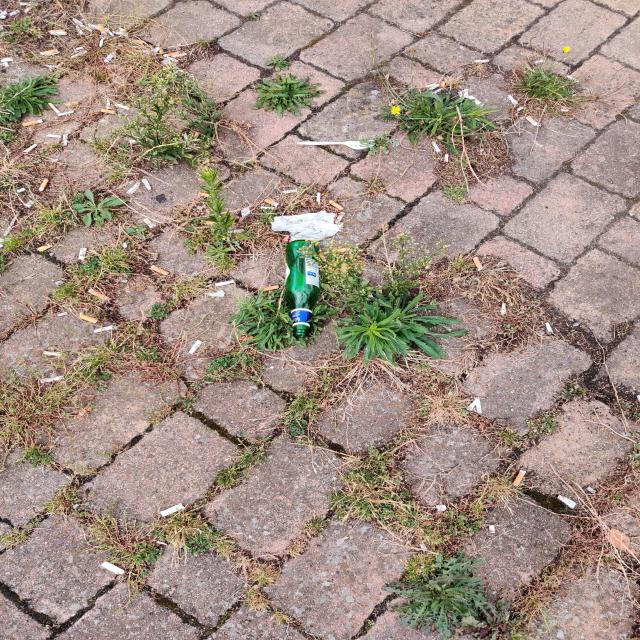litter: (279, 235, 324, 337)
